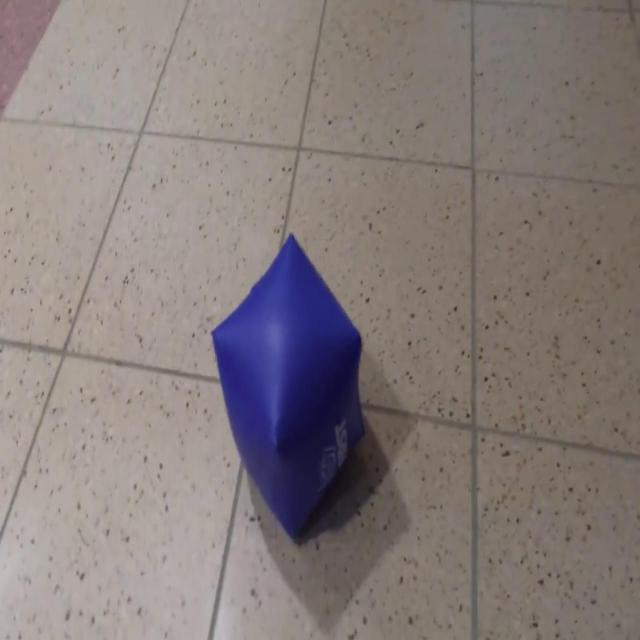frc_cube: (214, 238, 366, 534)
